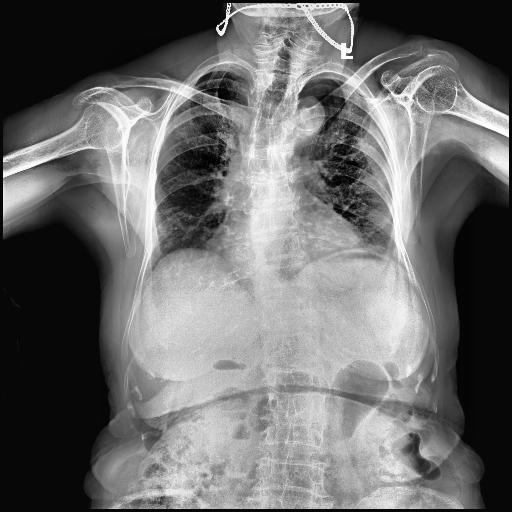0- Aortic enlargement: (279, 96, 325, 156), (284, 95, 326, 150), (285, 96, 325, 146)
11- Pleural thickening: (306, 69, 358, 89)
3- Cardiomegaly: (205, 214, 367, 267), (204, 220, 364, 258), (212, 229, 364, 251)
9- Other lesion: (240, 89, 306, 286), (244, 106, 276, 252), (254, 68, 290, 146)
